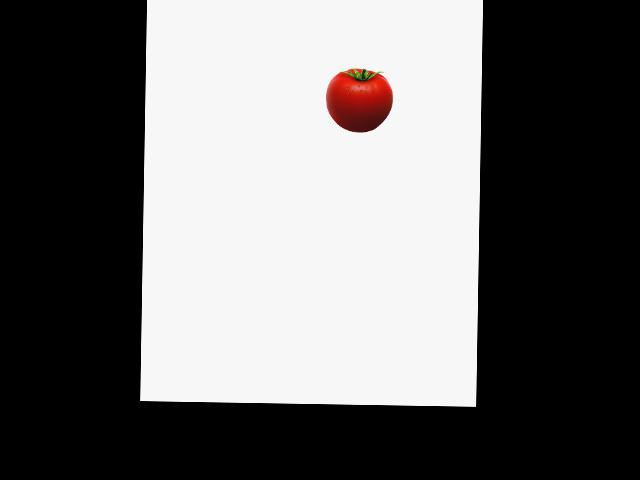tomato: (333, 68, 393, 133)
